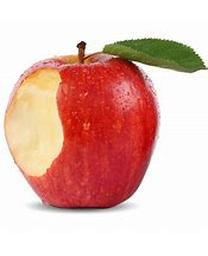apple: (2, 52, 160, 209)
